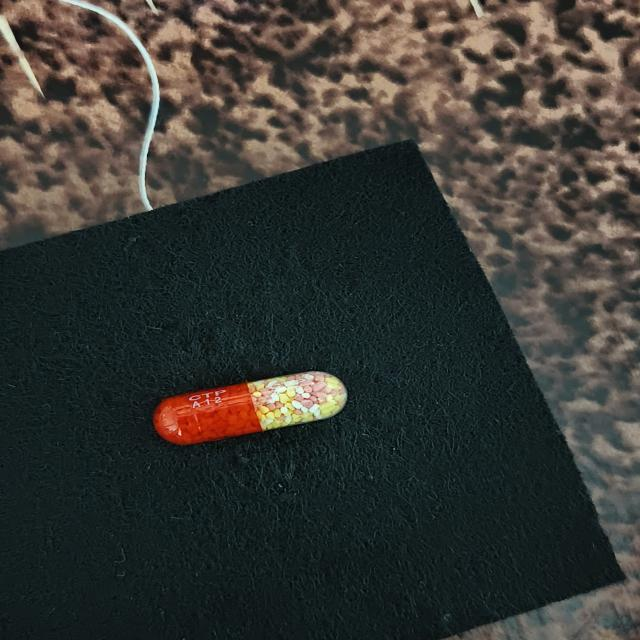Intact Capsule: (153, 371, 348, 445)
